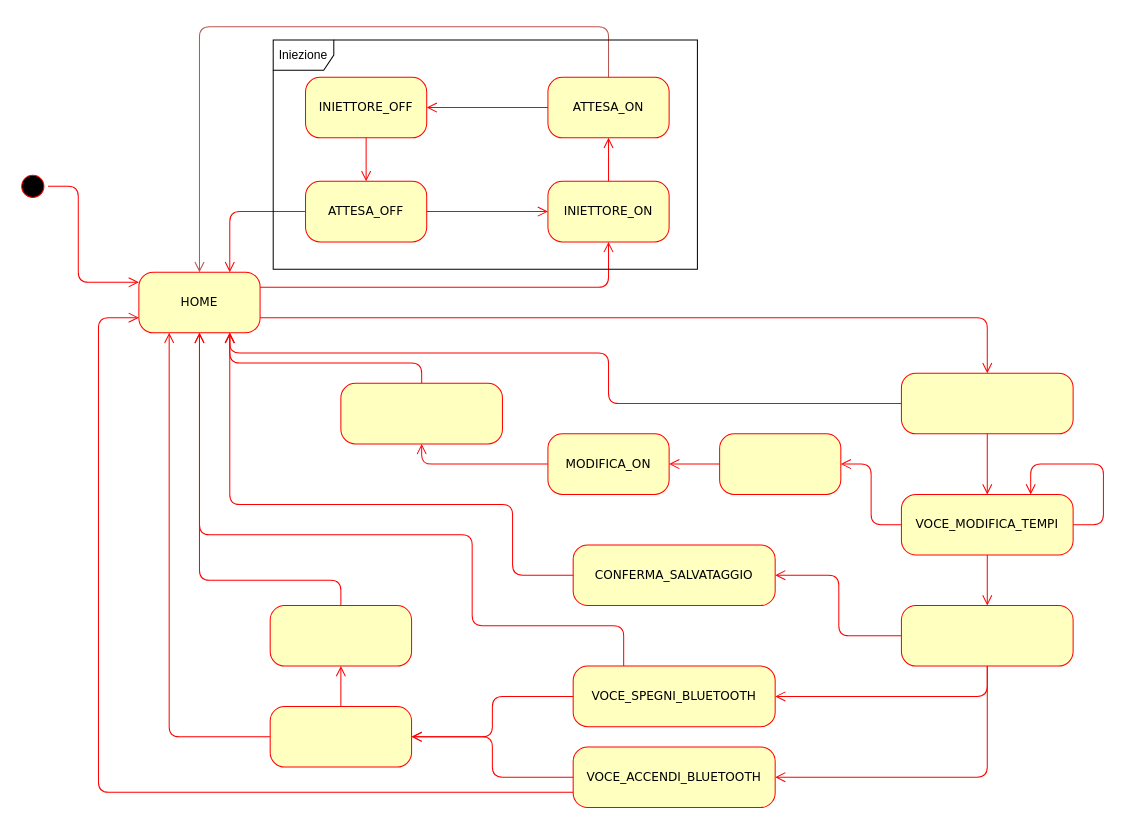
This 1131x825 diagram has some shape labels left out. Here are the shapes that lost their labels. From the top down, the centre of each, then its label:
At (421,413): "CONFERMA_MODIFICA".
At (986,403): "VOCE_RESET_P_MAX".
At (780,463): "MODIFICA_OFF".
At (340,635): "MOSTRA_RIEPILOGO".
At (986,635): "VOCE_SALVA_TEMPI".
At (340,736): "VOCE_RIEPILOGO".
